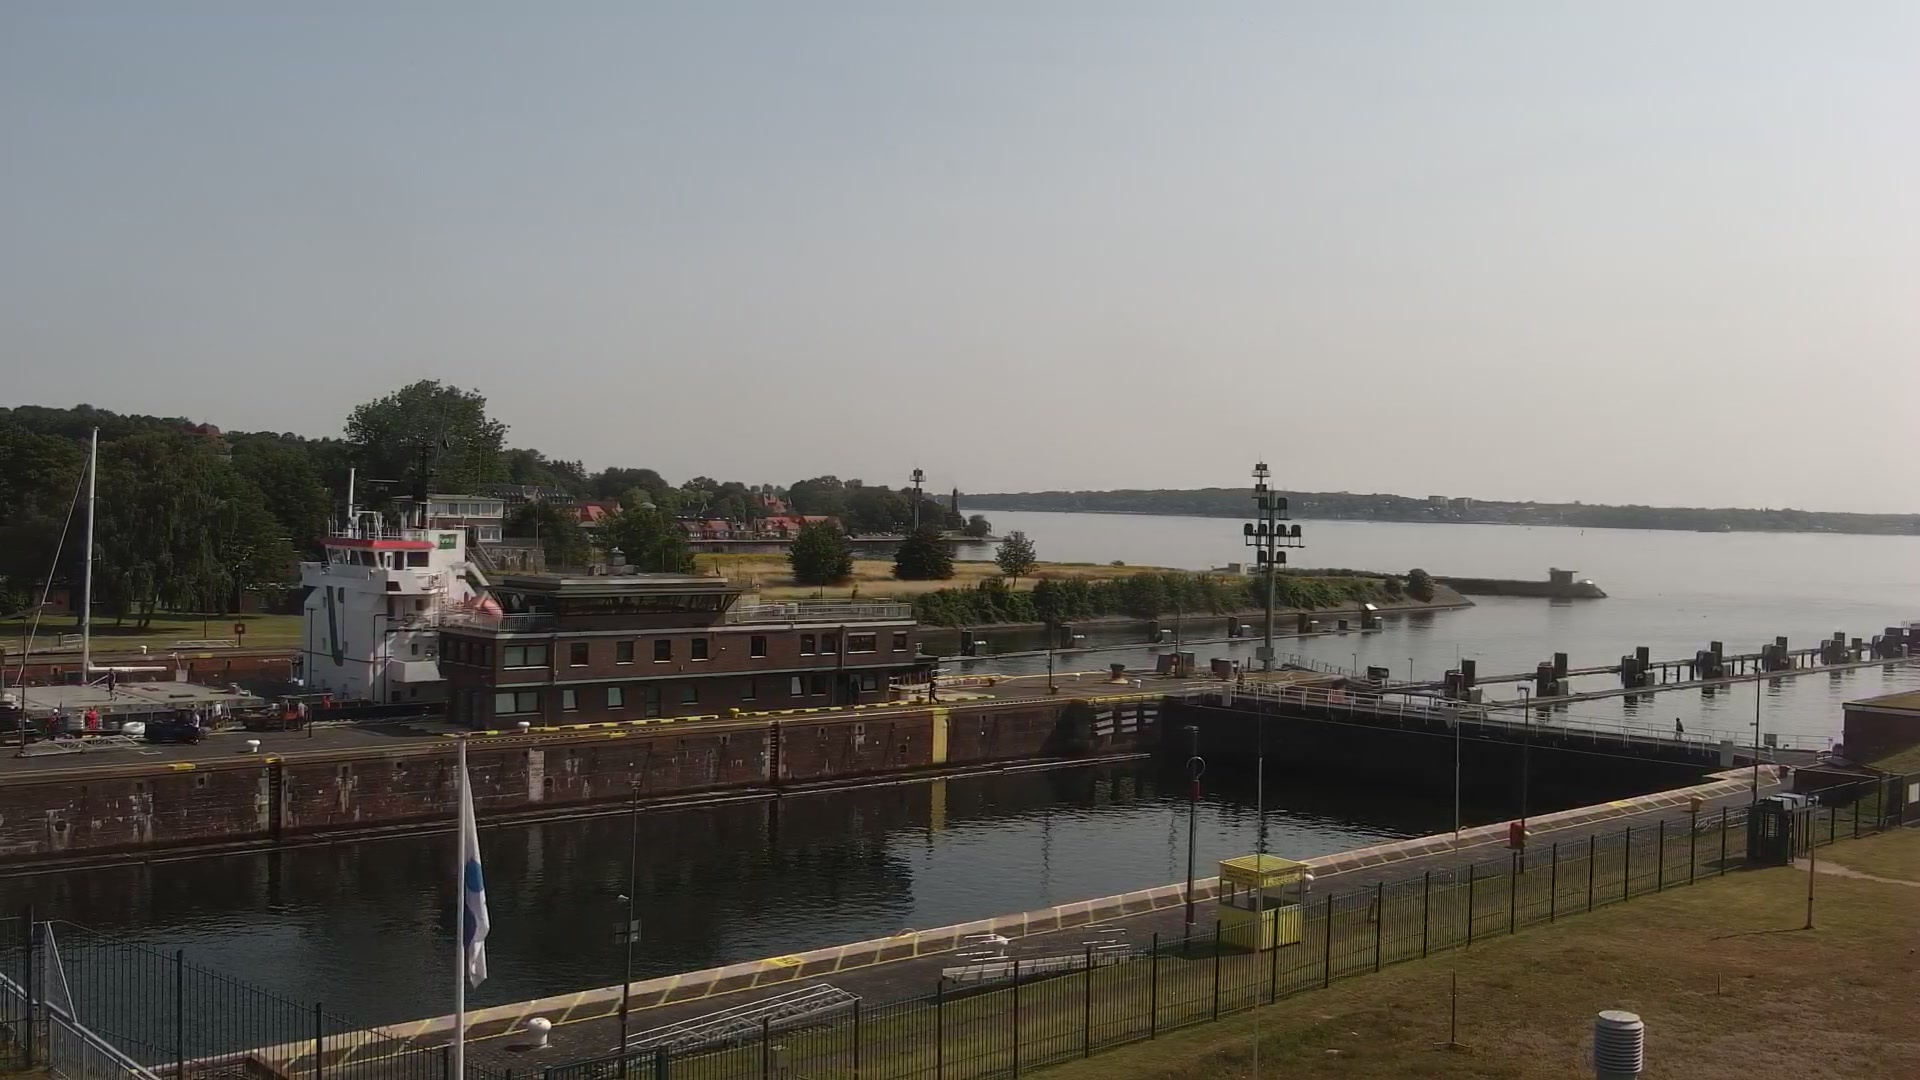human: (188, 708, 202, 745), (294, 698, 308, 730), (47, 707, 61, 739), (926, 677, 941, 703), (105, 667, 117, 701), (849, 677, 863, 706), (279, 696, 290, 730), (1673, 716, 1685, 741), (86, 705, 98, 729), (1236, 667, 1246, 693)
sea: (1, 424, 499, 736), (1, 464, 319, 639)
